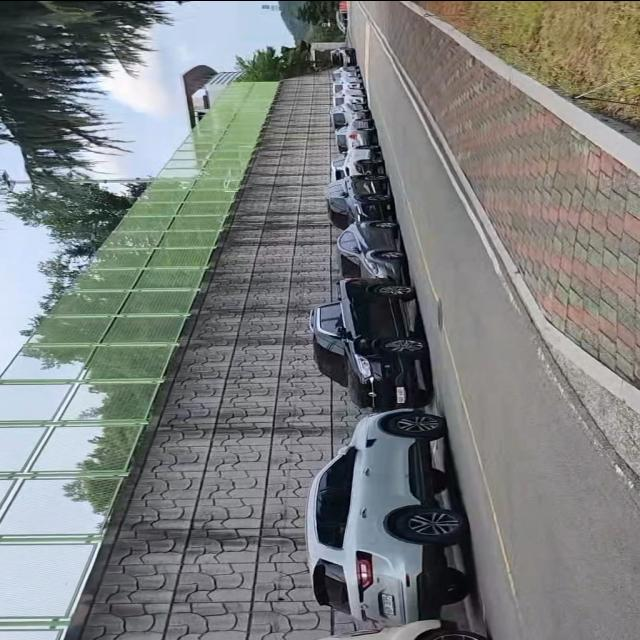obstacle: (302, 398, 485, 626), (320, 43, 406, 283), (304, 273, 446, 416), (292, 612, 502, 640), (562, 84, 640, 113)
road: (349, 0, 640, 640)
sidewalk: (356, 0, 640, 406)
